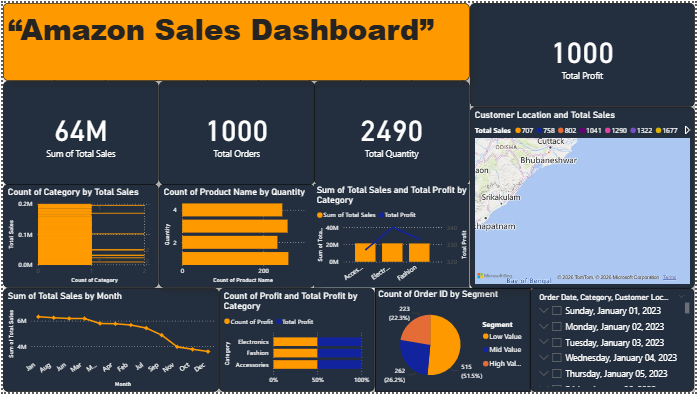

The dashboard page shown, as its layout file describes it:
{"tool":"powerbi","page":{"name":"Page 1","canvas":[1280,720],"ordinal":0},"visuals":[{"type":"card","fields":{"Values":["Sum(amazon_sales_dataset.Total Sales)"]},"box":[0,144,288,192],"z":0},{"type":"card","fields":{"Values":["amazon_sales_dataset.Total Orders"]},"box":[288,144,288,192],"z":1000},{"type":"card","fields":{"Values":["amazon_sales_dataset.Total Quantity"]},"box":[576,144,288,192],"z":2000},{"type":"card","fields":{"Values":["amazon_sales_dataset.Total Profit"]},"box":[864,0,416,192],"z":3000},{"type":"clusteredBarChart","fields":{"Y":["CountNonNull(amazon_sales_dataset.Category)"],"Category":["amazon_sales_dataset.Total Sales"]},"box":[0,336,288,192],"z":4000},{"type":"lineChart","fields":{"Category":["amazon_sales_dataset.Month"],"Y":["Sum(amazon_sales_dataset.Total Sales)"]},"box":[0,528,400,192],"z":5000},{"type":"barChart","fields":{"Category":["amazon_sales_dataset.Quantity"],"Y":["CountNonNull(amazon_sales_dataset.Product Name)"]},"box":[288,336,288,192],"z":6000},{"type":"actionButton","box":[0,0,100,40],"z":7000},{"type":"hundredPercentStackedBarChart","fields":{"Category":["amazon_sales_dataset.Category"],"Y":["CountNonNull(amazon_sales_dataset.Profit)","amazon_sales_dataset.Total Profit"]},"box":[400,528,288,192],"z":7001},{"type":"lineStackedColumnComboChart","fields":{"Category":["amazon_sales_dataset.Category"],"Y":["Sum(amazon_sales_dataset.Total Sales)"],"Y2":["amazon_sales_dataset.Total Profit"]},"box":[576,336,288,192],"z":7002},{"type":"pieChart","fields":{"Category":["amazon_sales_dataset.Segment"],"Y":["CountNonNull(amazon_sales_dataset.Order ID)"]},"box":[688,528,288,192],"z":7003},{"type":"map","fields":{"Category":["amazon_sales_dataset.Customer Location"],"Series":["amazon_sales_dataset.Total Sales"]},"box":[864,192,416,336],"z":7004},{"type":"slicer","fields":{"Values":["amazon_sales_dataset.Order Date","amazon_sales_dataset.Category","amazon_sales_dataset.Customer Location"]},"box":[976,528,304,192],"z":7005},{"type":"textbox","box":[0,0,864,144],"z":7006}]}

Visuals, with their boxes in screenshot pixels (x1, y1, x2, y2), scaled from the page's 1280x720 canvas onto the 698x394 screenshot:
card - Sum(amazon_sales_dataset.Total Sales): <box>0,79,157,184</box>
card - amazon_sales_dataset.Total Orders: <box>157,79,314,184</box>
card - amazon_sales_dataset.Total Quantity: <box>314,79,471,184</box>
card - amazon_sales_dataset.Total Profit: <box>471,0,697,105</box>
clusteredBarChart - CountNonNull(amazon_sales_dataset.Category) x amazon_sales_dataset.Total Sales: <box>0,184,157,289</box>
lineChart - amazon_sales_dataset.Month x Sum(amazon_sales_dataset.Total Sales): <box>0,289,218,393</box>
barChart - amazon_sales_dataset.Quantity x CountNonNull(amazon_sales_dataset.Product Name): <box>157,184,314,289</box>
actionButton: <box>0,0,55,22</box>
hundredPercentStackedBarChart - amazon_sales_dataset.Category x CountNonNull(amazon_sales_dataset.Profit): <box>218,289,375,393</box>
lineStackedColumnComboChart - amazon_sales_dataset.Category x Sum(amazon_sales_dataset.Total Sales): <box>314,184,471,289</box>
pieChart - amazon_sales_dataset.Segment x CountNonNull(amazon_sales_dataset.Order ID): <box>375,289,532,393</box>
map - amazon_sales_dataset.Customer Location x amazon_sales_dataset.Total Sales: <box>471,105,697,289</box>
slicer - amazon_sales_dataset.Order Date x amazon_sales_dataset.Category: <box>532,289,697,393</box>
textbox: <box>0,0,471,79</box>
